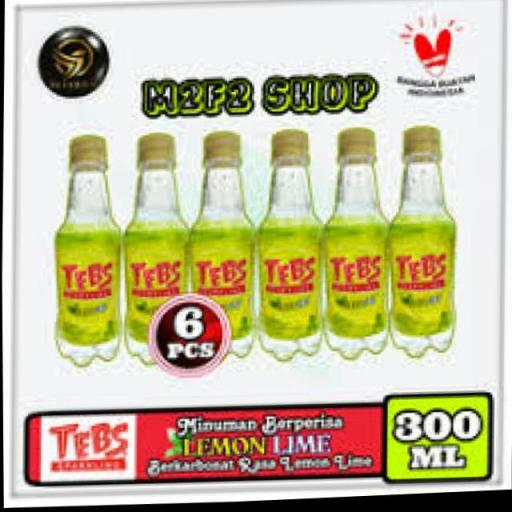plastic: (240, 130, 338, 364), (38, 131, 130, 366), (378, 124, 466, 361), (314, 124, 397, 370), (131, 120, 208, 356), (186, 126, 260, 360)
